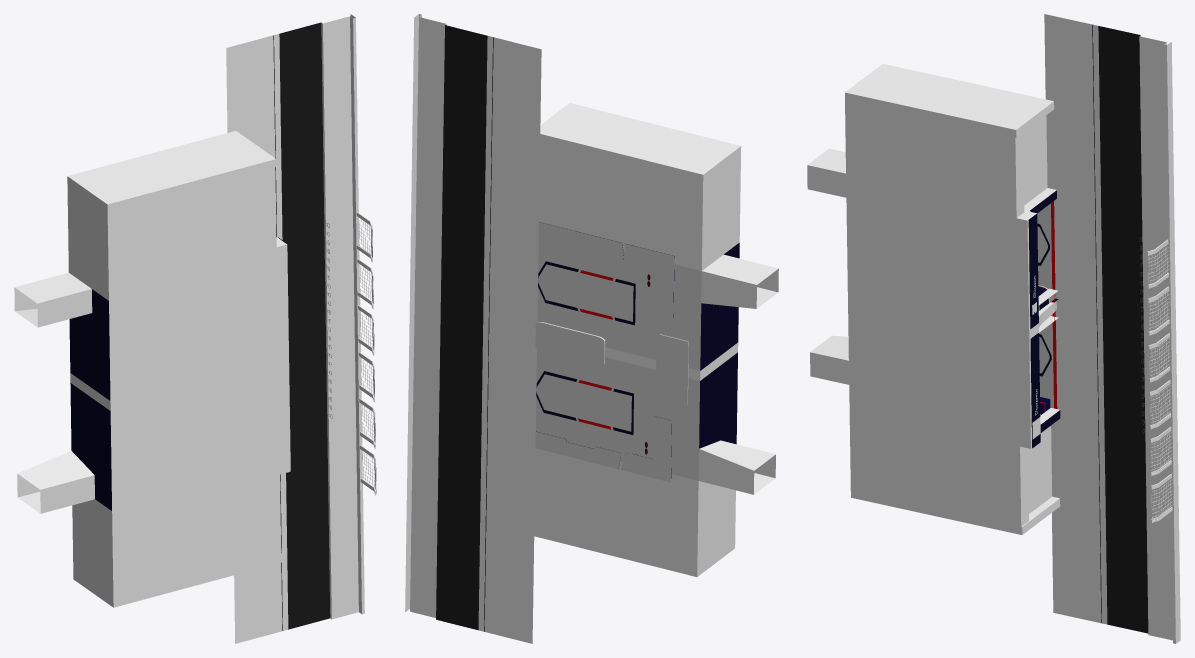
File: pitstop.glb
3 views of the same model, side by side, from view 1: azimuth 30°, elevation 25°; view 2: azimuth 150°, elevation 25°; view 3: azimuth 330°, elevation 25° (orthographic).
Parts seen in each view (by area): view 1: Cube_34, Plane_2, Plane.006_6, Plane.005_5; view 2: Cube_34, Plane_2, Cube.001_9, Cube.002_10, Cube.006_22; view 3: Cube_34, Plane_2, Plane.006_6, Cube.003_17, Plane.005_5.
Part boxes in pixels (box(x1,y1,x2,y2)): Cube_34: box(14, 131, 290, 607); Plane_2: box(226, 14, 364, 643); Plane.006_6: box(358, 219, 376, 493); Plane.005_5: box(356, 212, 376, 495); Cube_34: box(534, 103, 778, 576); Plane_2: box(405, 14, 541, 643); Cube.001_9: box(535, 222, 674, 482); Cube.002_10: box(656, 334, 688, 405); Cube.006_22: box(535, 322, 605, 365); Cube_34: box(807, 64, 1060, 534); Plane_2: box(1044, 14, 1180, 643); Plane.006_6: box(1148, 245, 1171, 521); Cube.003_17: box(1028, 214, 1040, 448); Plane.005_5: box(1147, 239, 1172, 522).
Bounding box in the file's own units: 53.1 × 87.24 × 11.15.
